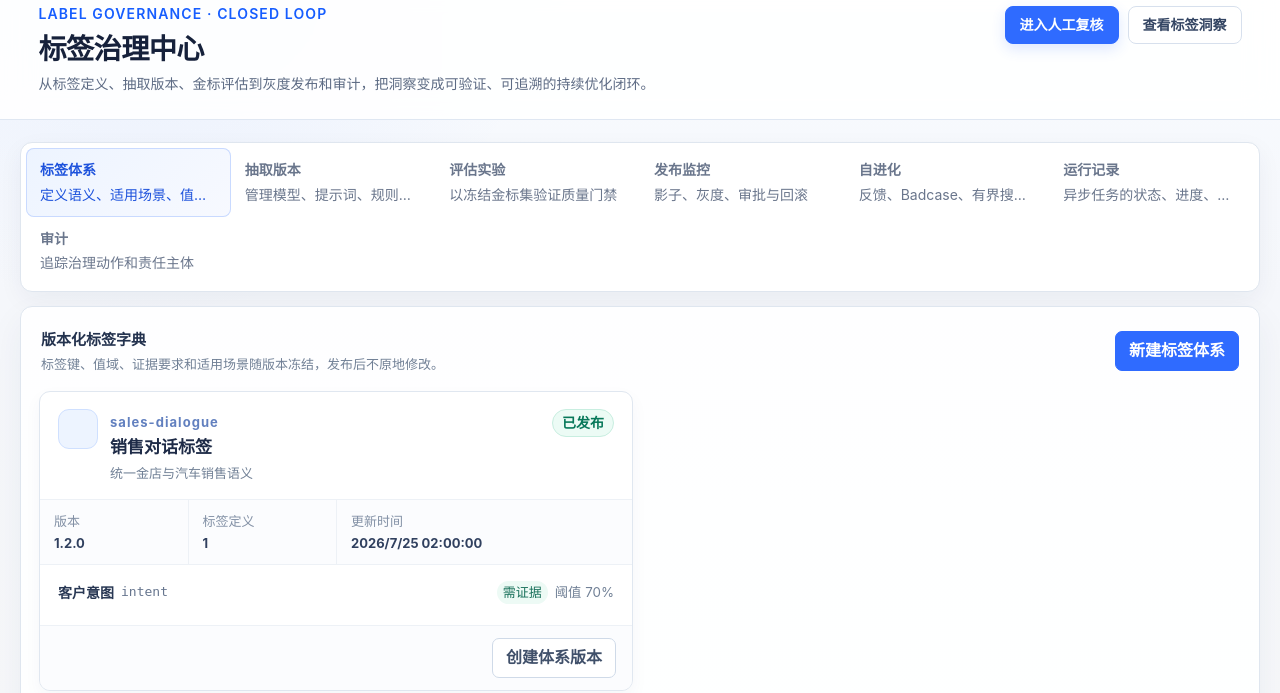
Test: TagGovernancePage › starts an asynchronous evaluation and links to its observable run
Expected: the heading "销售对话标签" is shown, x1=110 y1=437 x2=212 y2=457
Step 1. Click the tab "评估实验 以冻结金标集验证质量门禁" → (538, 183), box x1=435 y1=148 x2=640 y2=217
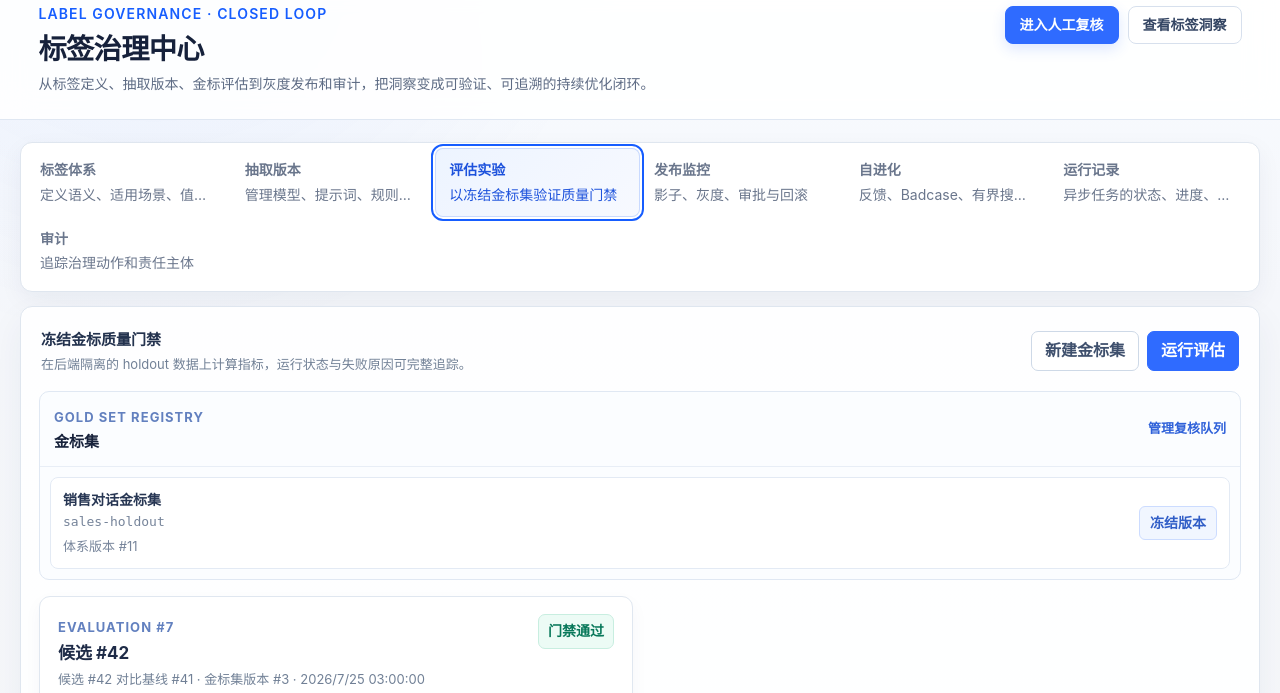
Step 2. Click the button "运行评估" → (1193, 351), box x1=1147 y1=331 x2=1239 y2=371
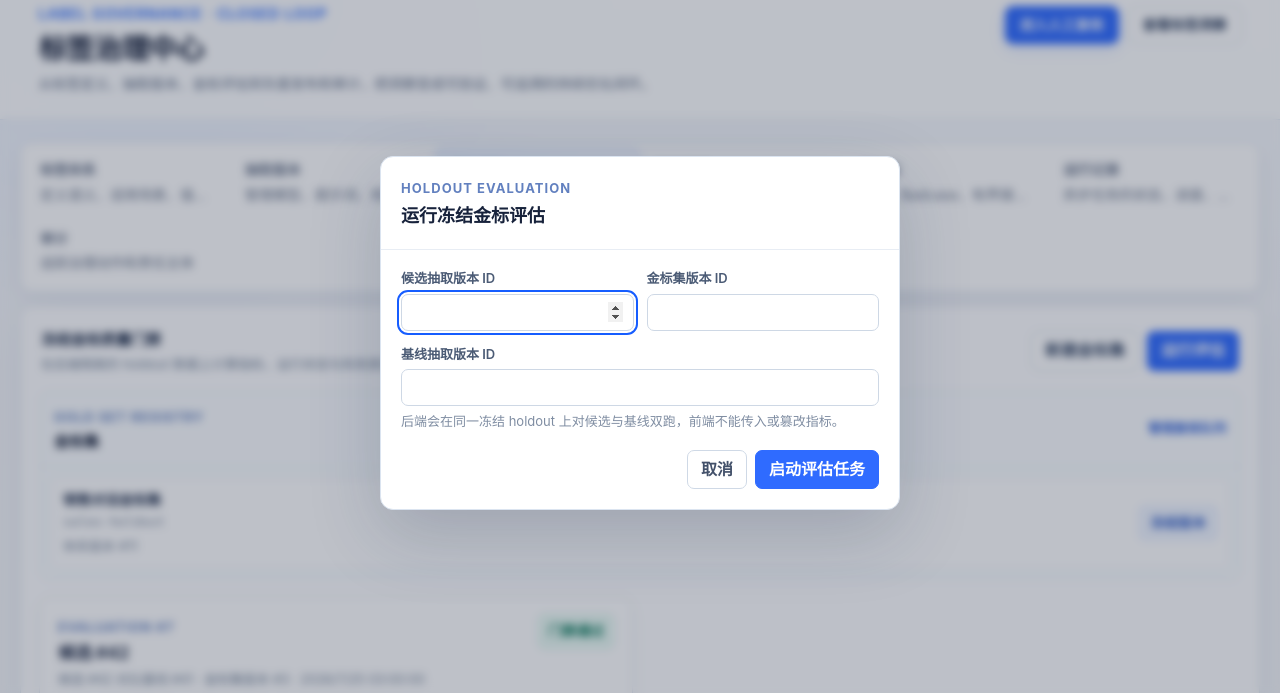
Step 3. Type "42" into the number field labelled "候选抽取版本 ID" → (517, 312), box x1=401 y1=294 x2=634 y2=330
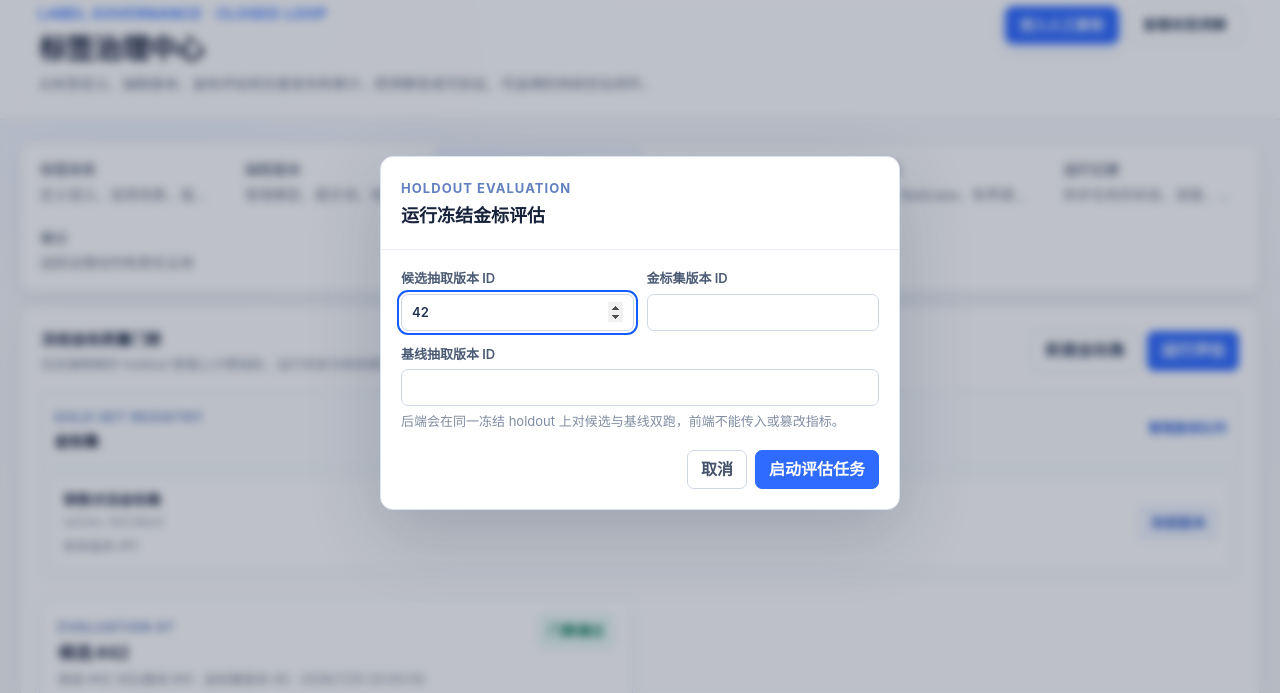
Step 4. Type "7" into the number field labelled "金标集版本 ID" → (763, 312), box x1=646 y1=294 x2=879 y2=330
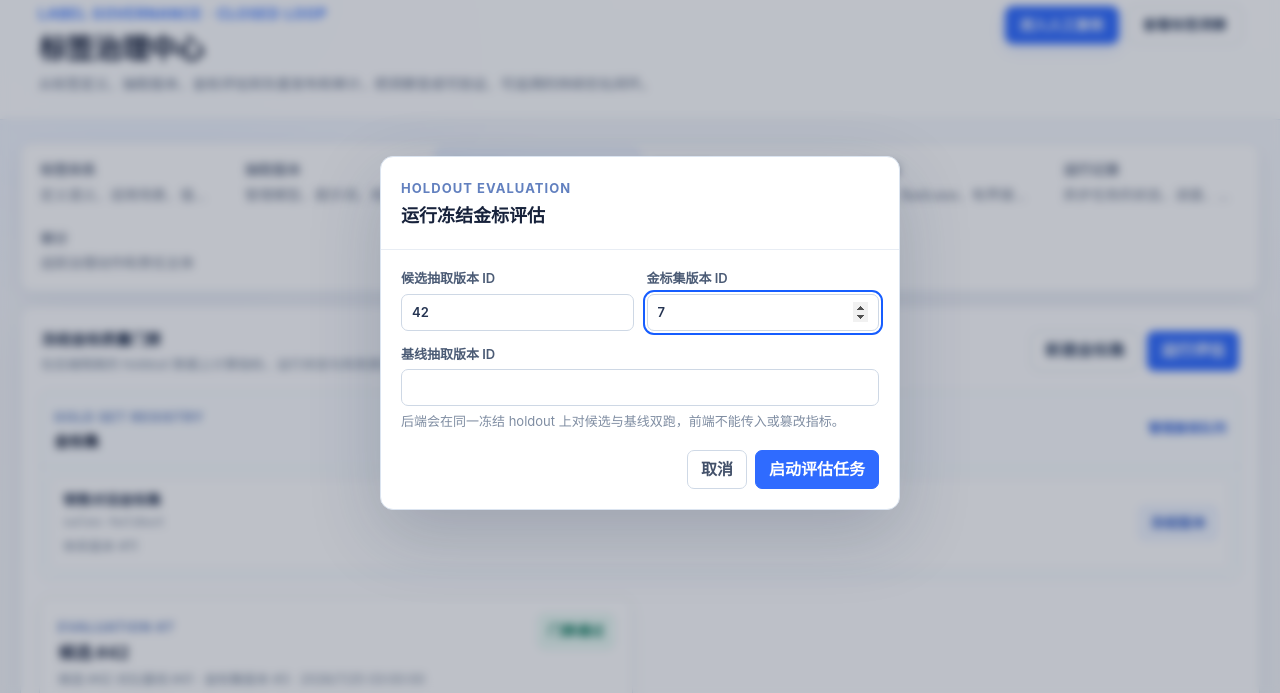
Step 5. Type "41" into the number field labelled "基线抽取版本 ID" → (640, 388), box x1=401 y1=369 x2=879 y2=406
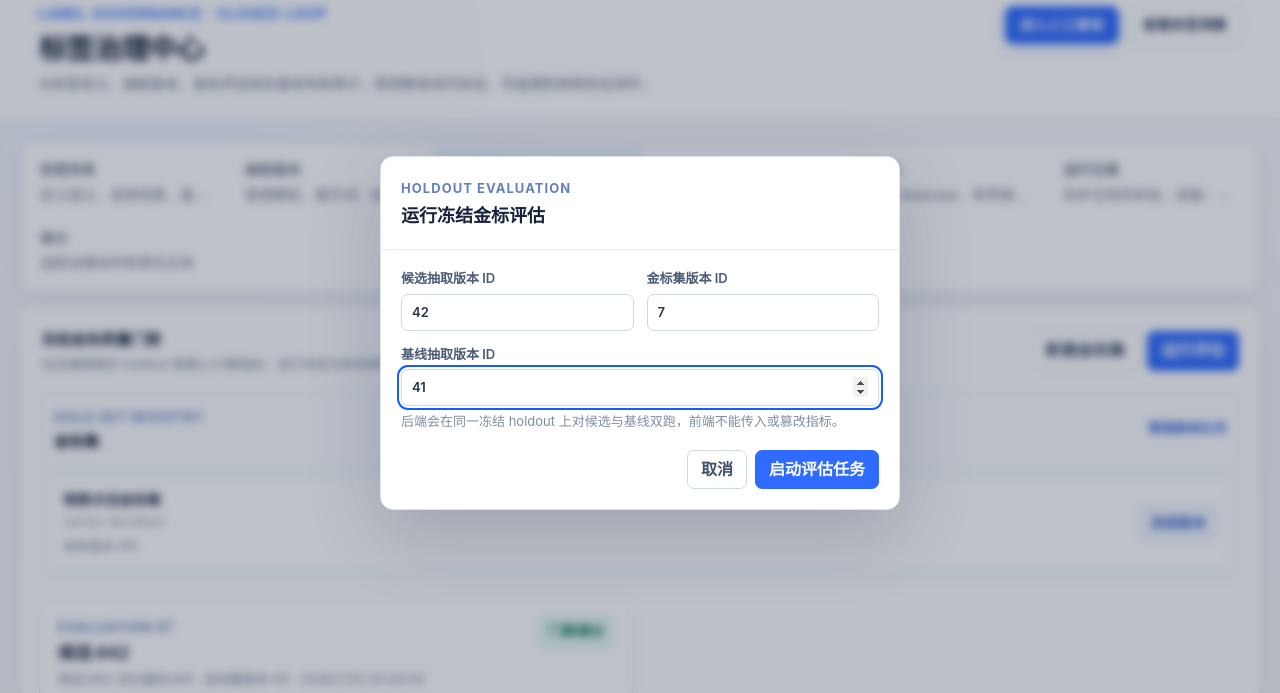
Step 6. Click the button "启动评估任务" → (817, 470), box x1=755 y1=450 x2=879 y2=490
(page scrolled)
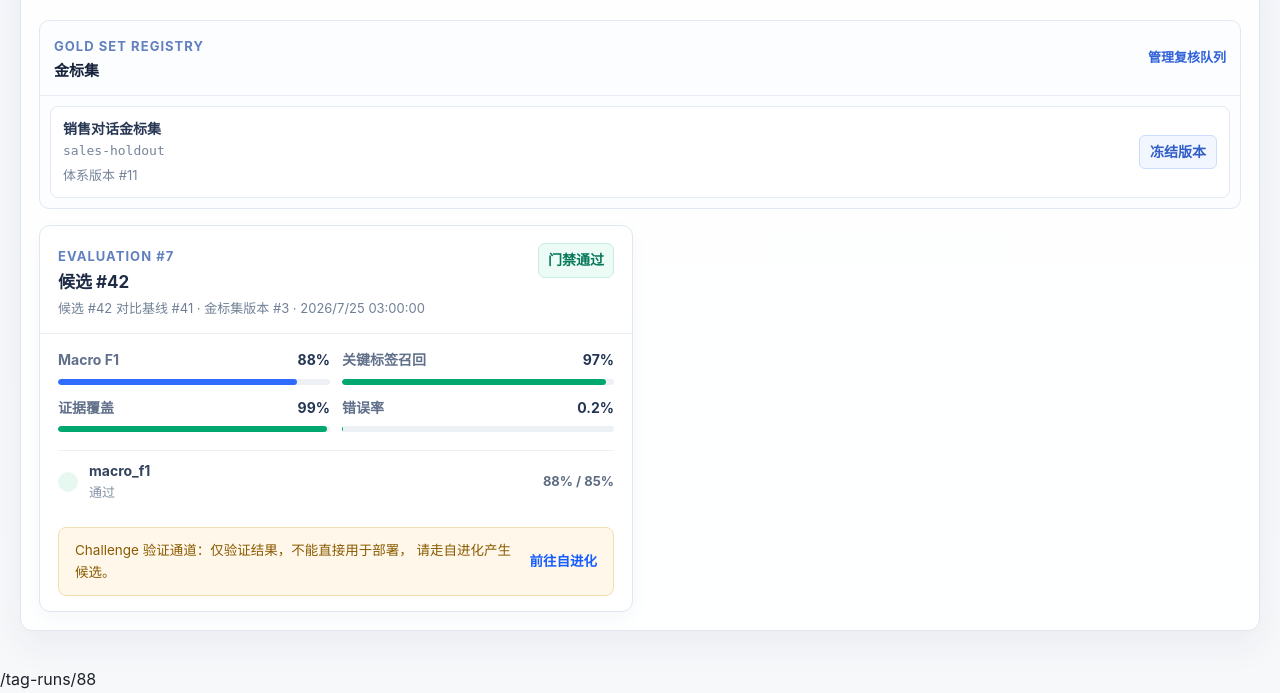
Result: the text named "当前路径" reads "/tag-runs/88" at x1=0 y1=670 x2=96 y2=690
